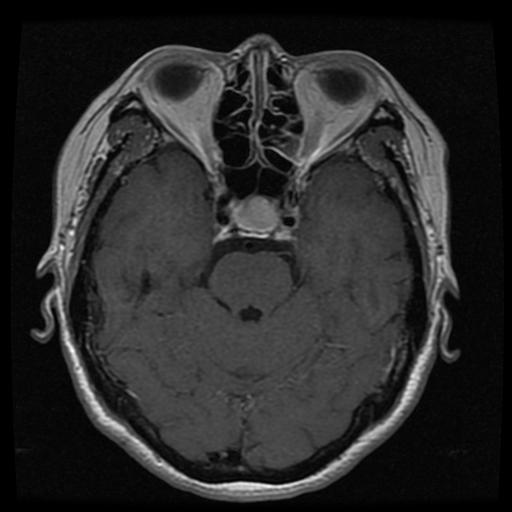Pituirity_tumour: (232, 195, 278, 231)
